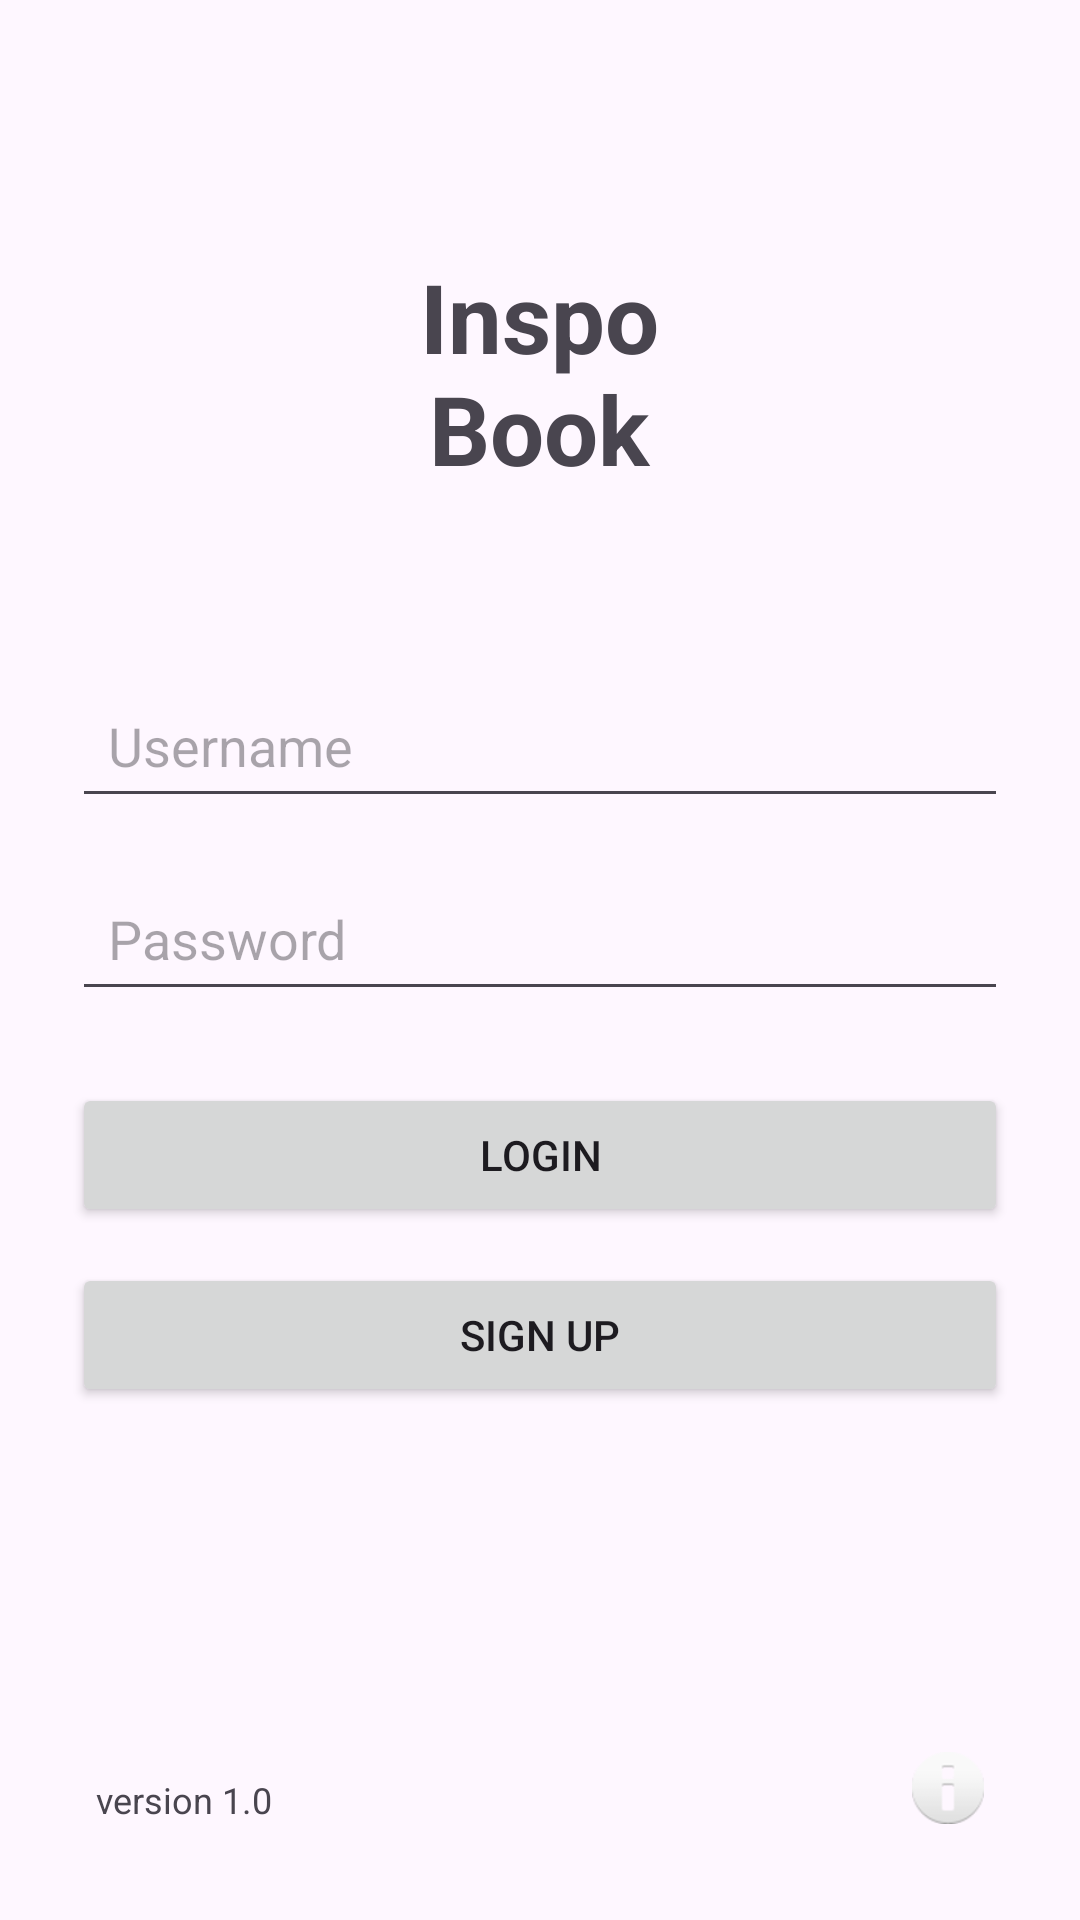

Icon bounding boxes for this 1080×1920 phone screenshot, format (x1, y1, x2, y2):
Info: (912, 1765, 984, 1824)
